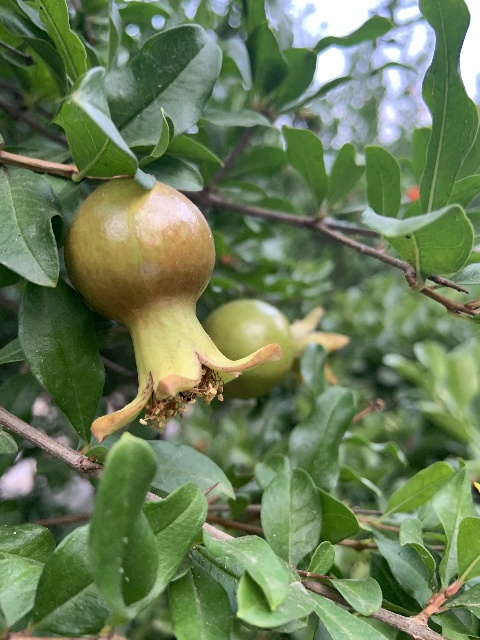early-fruit: (64, 179, 316, 440)
mid-growth: (206, 299, 347, 396)
